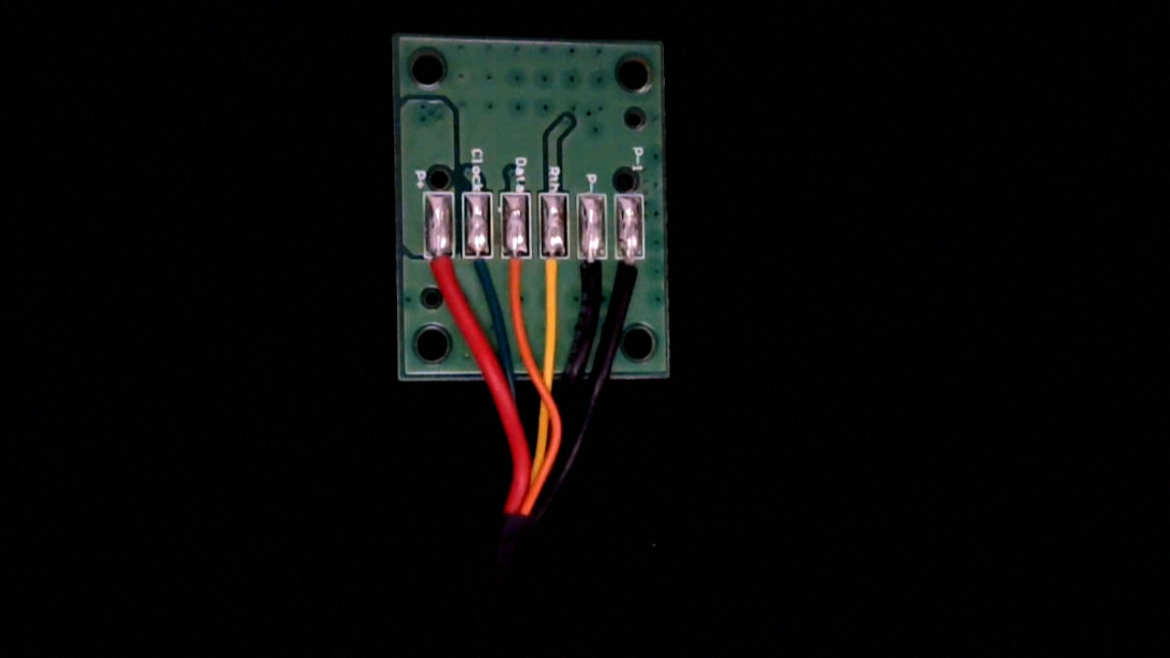Black: (573, 244, 609, 308)
Black1: (615, 243, 647, 312)
Green: (464, 238, 496, 304)
Orange: (500, 240, 532, 314)
Red: (421, 239, 455, 312)
Yellow: (539, 240, 570, 307)
